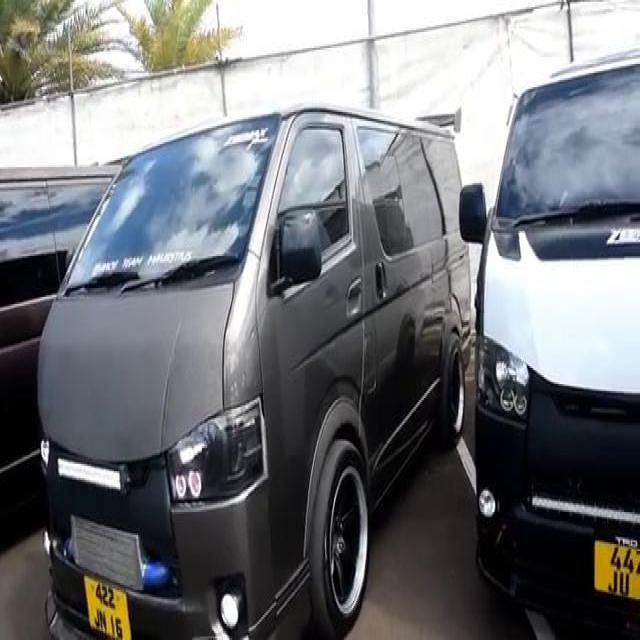Van: (29, 103, 469, 635)
